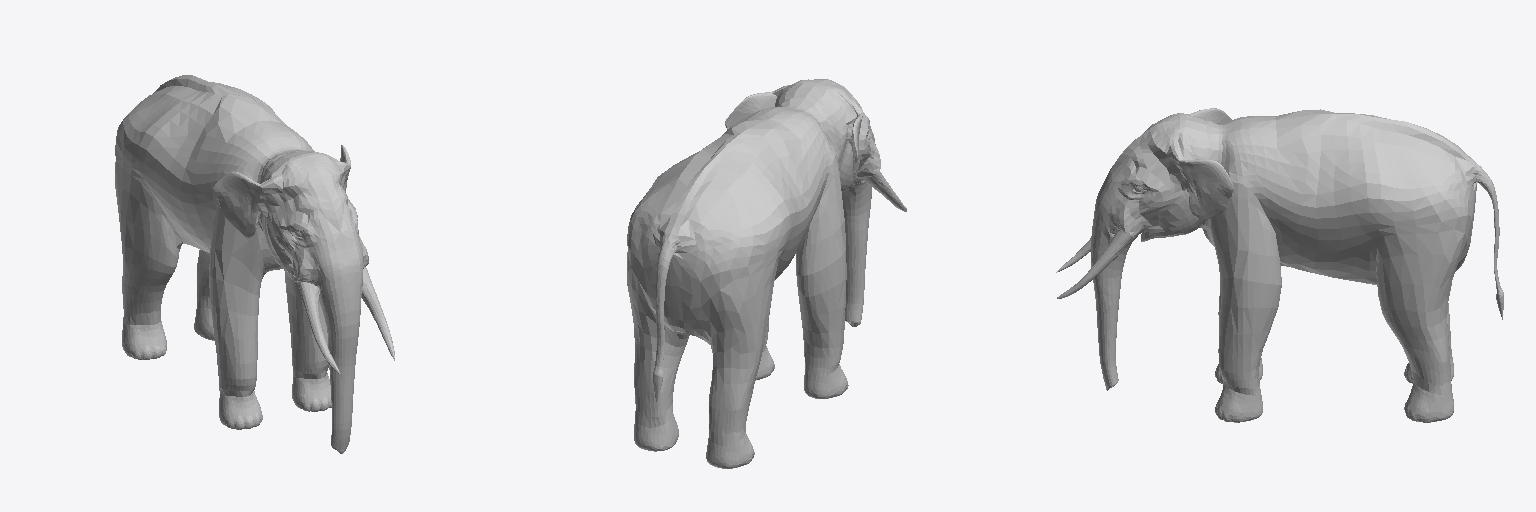
File: ELE_AS1.OBJ
3 views of the same model, side by side, from view 1: azimuth 30°, elevation 25°; view 2: azimuth 150°, elevation 25°; view 3: azimuth 270°, elevation 25° (orthographic).
Parts seen in each view (by area): view 1: ele4_body, ele4_tusks; view 2: ele4_body, ele4_tusks; view 3: ele4_body, ele4_tusks.
Boxes of the visible parts, x1=… form: ele4_body: x1=115, y1=75, x2=368, y2=453; ele4_tusks: x1=298, y1=267, x2=394, y2=373; ele4_body: x1=627, y1=79, x2=880, y2=468; ele4_tusks: x1=863, y1=170, x2=906, y2=211; ele4_body: x1=1091, y1=108, x2=1503, y2=422; ele4_tusks: x1=1056, y1=231, x2=1132, y2=298.
Size of the model in its own units: 1.64 by 3.31 by 4.72.